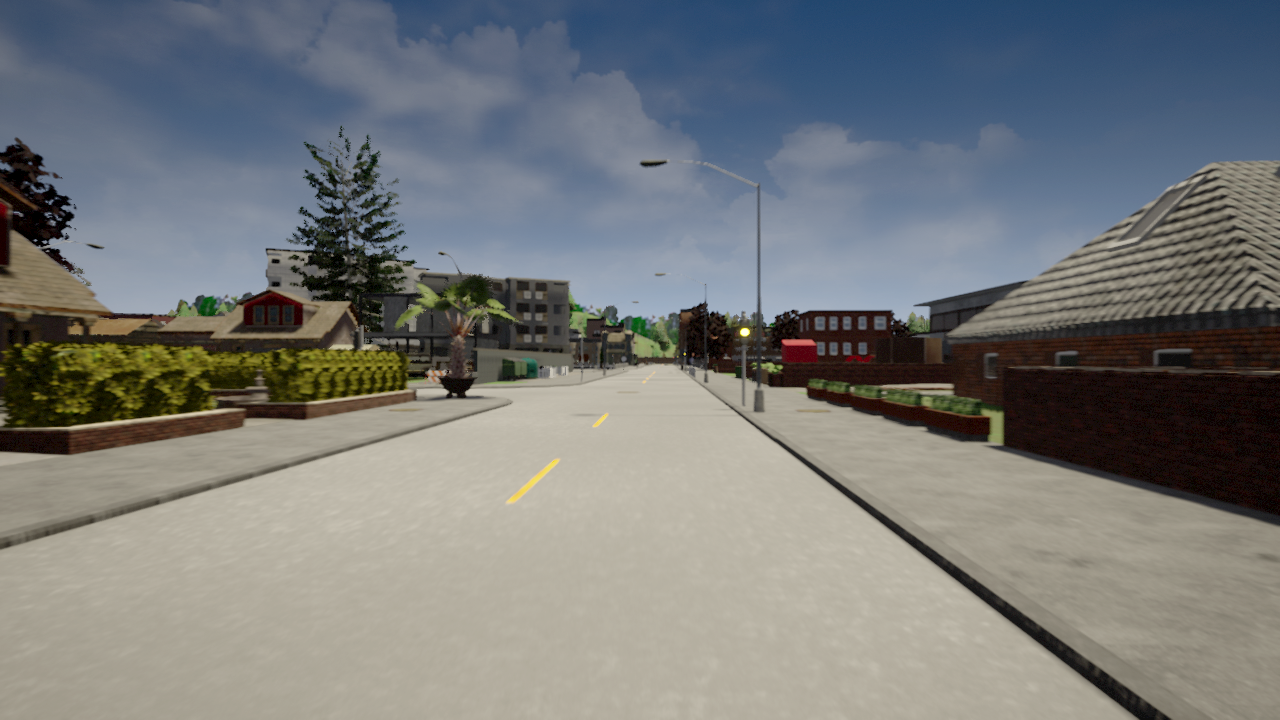yellow: (739, 319, 751, 347)
